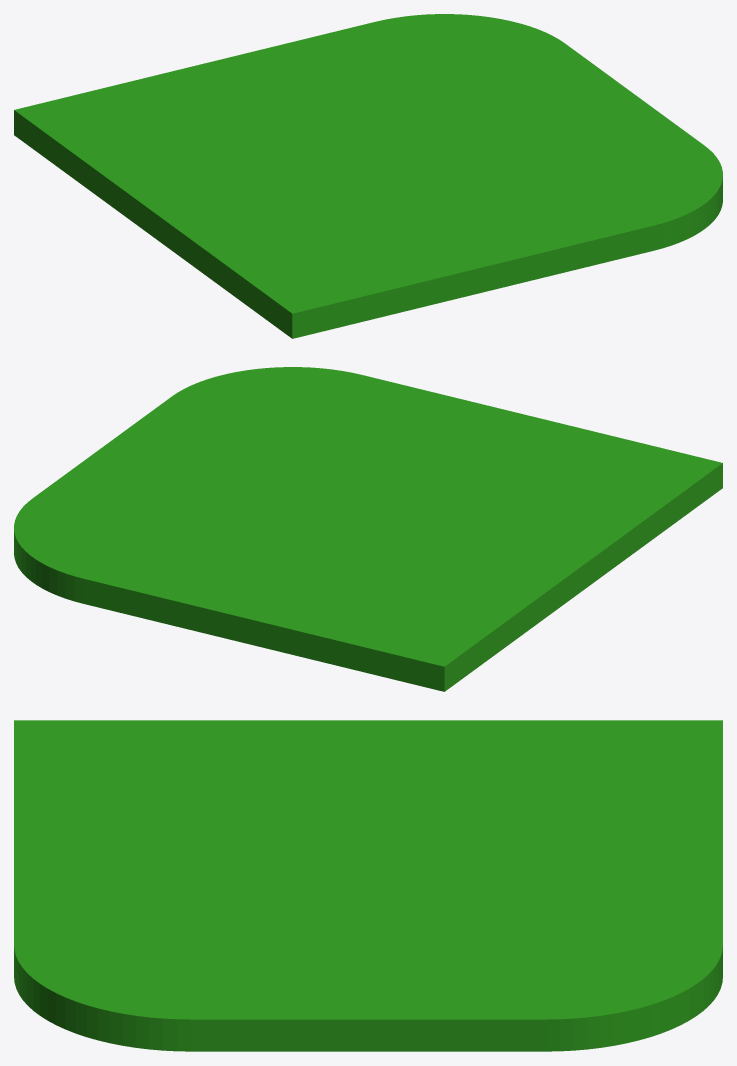
The model's file is grass_full_roundcorners.fbx.
3 renders of one model, top to bottom at view 1: azimuth 30°, elevation 25°; view 2: azimuth 150°, elevation 25°; view 3: azimuth 270°, elevation 25°, orthographic. The views are drawn at different scales.
Parts seen in each view (by area): view 1: grass rround corners; view 2: grass rround corners; view 3: grass rround corners.
Boxes of the visible parts, x1=… form: grass rround corners: x1=14, y1=14, x2=722, y2=338; grass rround corners: x1=14, y1=367, x2=722, y2=691; grass rround corners: x1=14, y1=720, x2=722, y2=1051.
Size of the model in its own units: 2000 by 100 by 2003.
